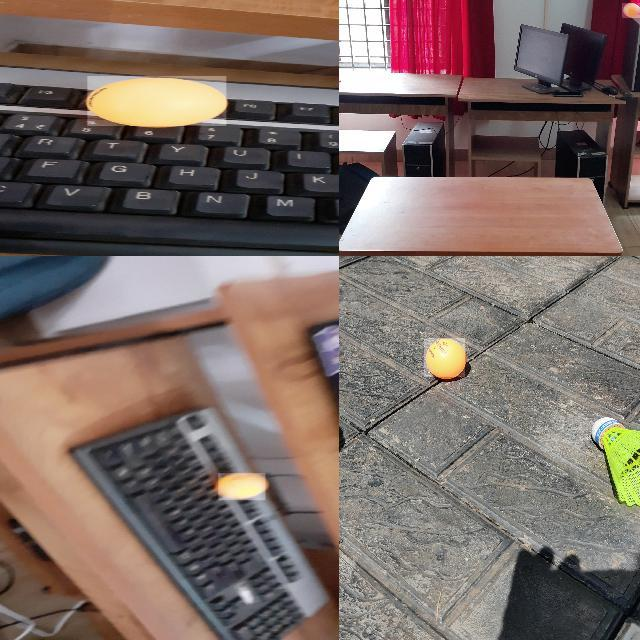ping-pong-ball: (87, 76, 228, 126), (424, 338, 466, 378), (218, 473, 266, 501), (621, 3, 639, 20)
